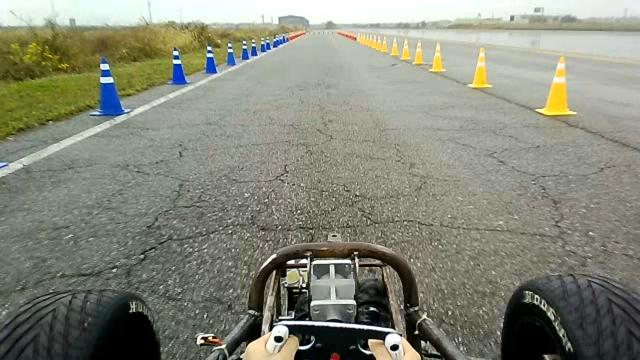blue cone: (89, 56, 131, 117), (166, 46, 191, 85), (202, 42, 218, 74), (225, 41, 237, 66), (240, 39, 250, 60), (250, 39, 258, 56), (264, 36, 272, 51), (260, 37, 266, 52)
yellow cone: (535, 55, 577, 116), (467, 46, 492, 89), (429, 41, 446, 73), (412, 39, 425, 65), (400, 37, 411, 61), (390, 35, 399, 56), (380, 36, 389, 53), (374, 35, 382, 51), (366, 34, 374, 48)
